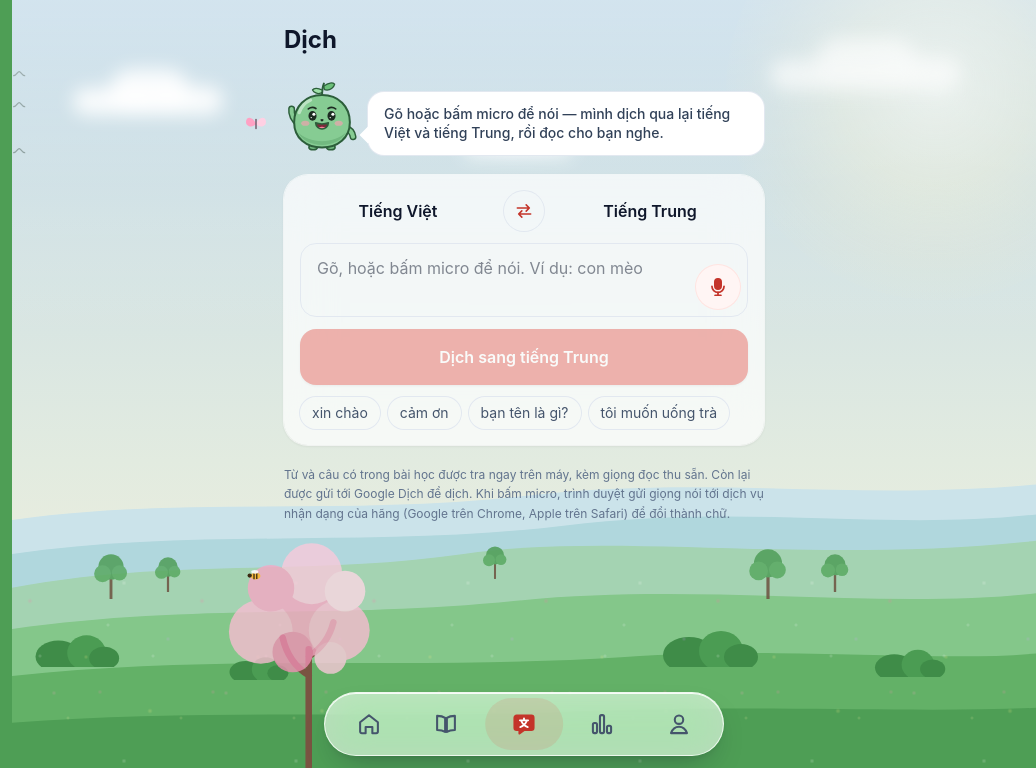
Test case: Màn Dịch — đổi chiều, Trung → Việt › gõ chữ Hán thì ra nghĩa tiếng Việt, kèm chữ Hán và pinyin, rồi đọc bản dịch tiếng Việt
Click the button named "Đổi chiều dịch" at (524, 210), box [504,190,544,230]
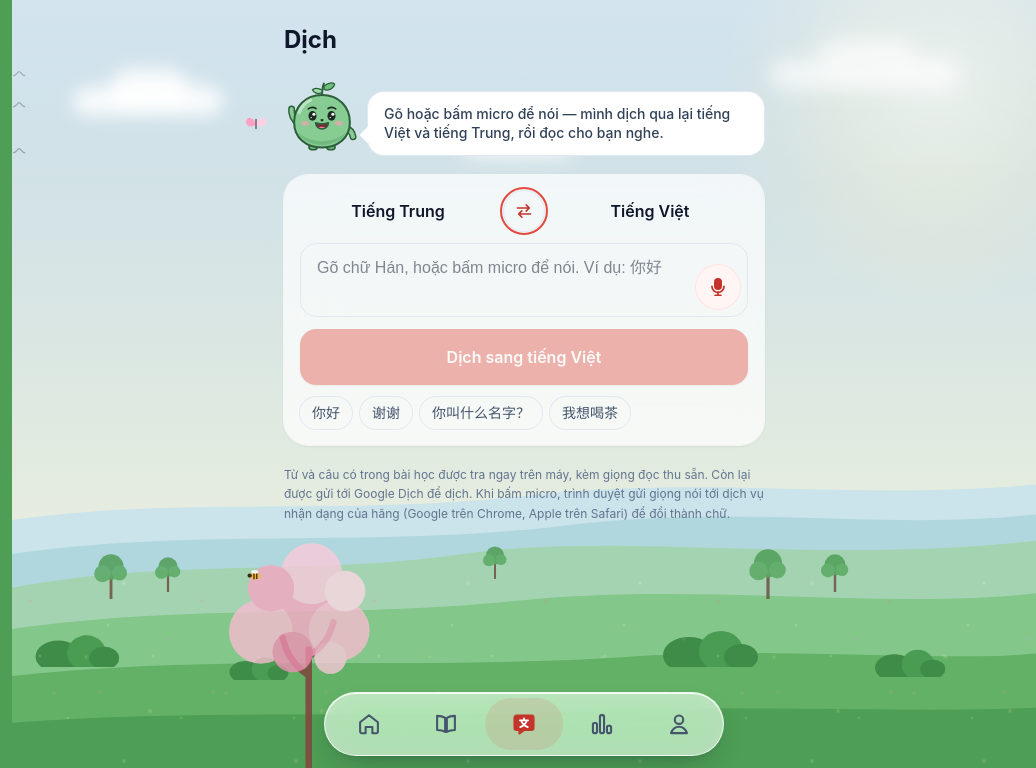
Type "我想去银行" into the text box named "Tiếng Trung" at (524, 280), box [300,242,748,316]
Then press Enter
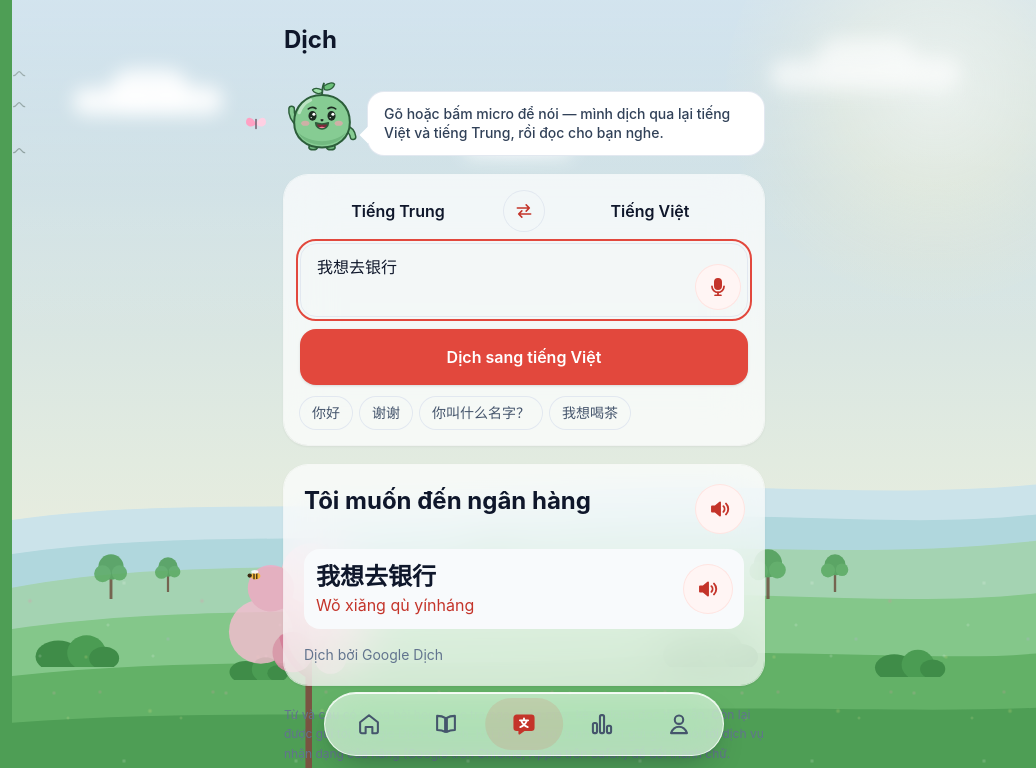
Check: the element named "Bản dịch" shows "Tôi muốn đến ngân hàng", box [304,486,591,514]
Check: the element named "Bản dịch" shows "我想去银行", box [316,562,436,590]
Check: the element named "Bản dịch" shows "Wǒ xiǎng qù yínháng", box [316,594,474,614]
